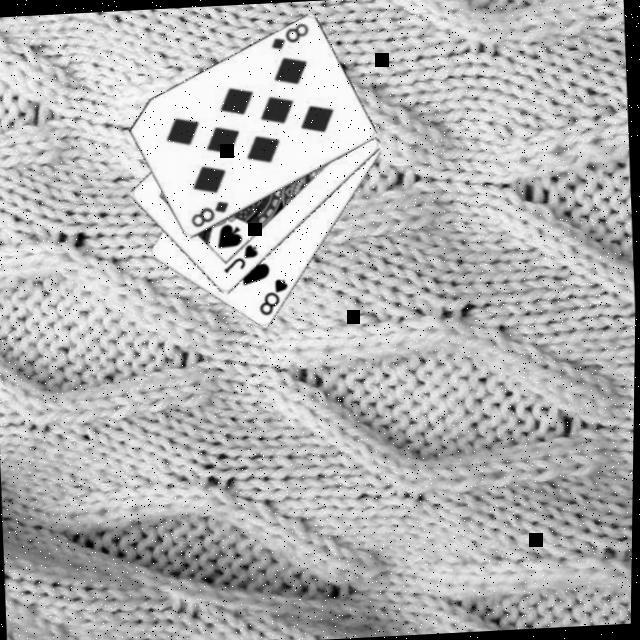8D: (187, 198, 233, 232), (266, 22, 312, 54)
8S: (254, 276, 294, 320)
JS: (219, 242, 262, 278)
